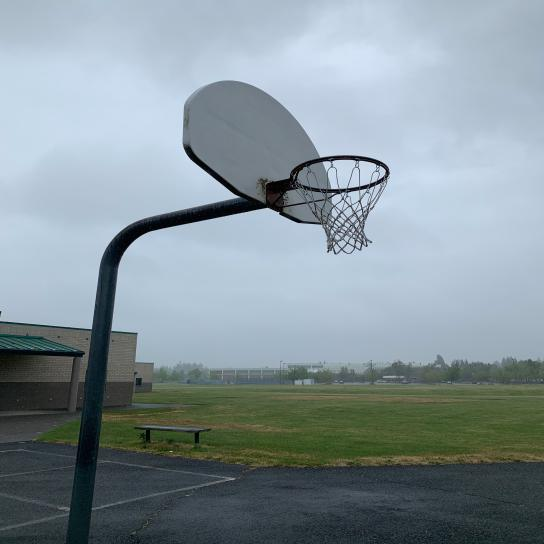basketball-hoop: (289, 153, 391, 256)
